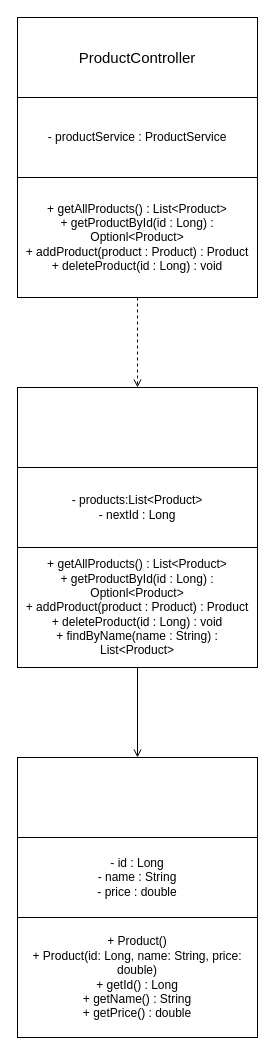
Some shapes in this 275 by 1055 pixel diagram are drawn without their labels. The shapes that lost their labels are listed below. From the top down, each one's centre as x and y in pixels, then its label:
(x=137, y=427): ProductService
(x=137, y=797): Product
